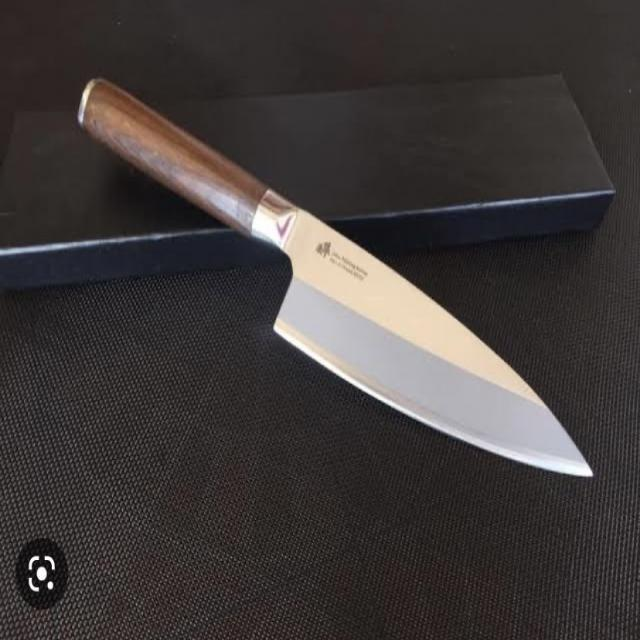Knife: (71, 56, 598, 488)
